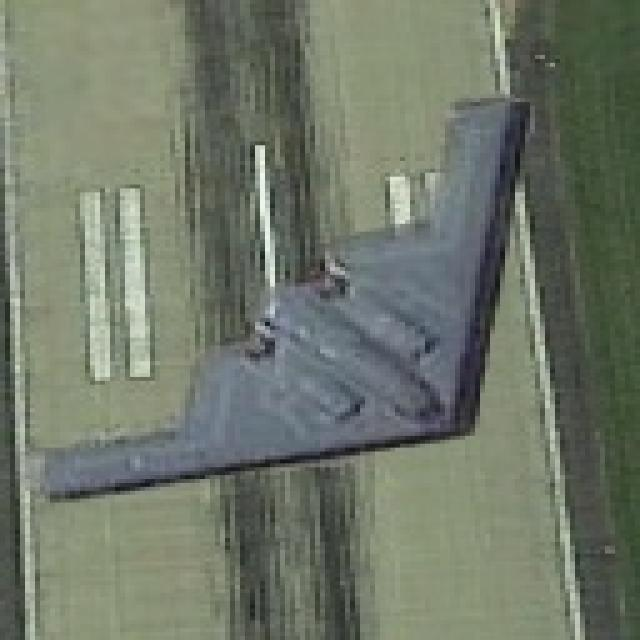B-2_TopDown: (30, 90, 535, 503)
